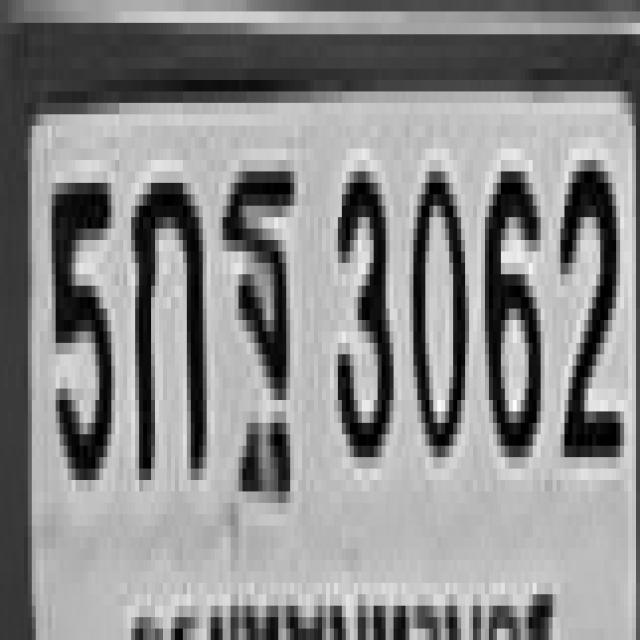0: (410, 160, 465, 446)
10GorGai: (127, 160, 203, 469)
2: (557, 148, 616, 446)
25ThorThan: (219, 154, 290, 463)
3: (334, 160, 389, 446)
5: (48, 172, 111, 468)
6: (481, 160, 537, 446)
